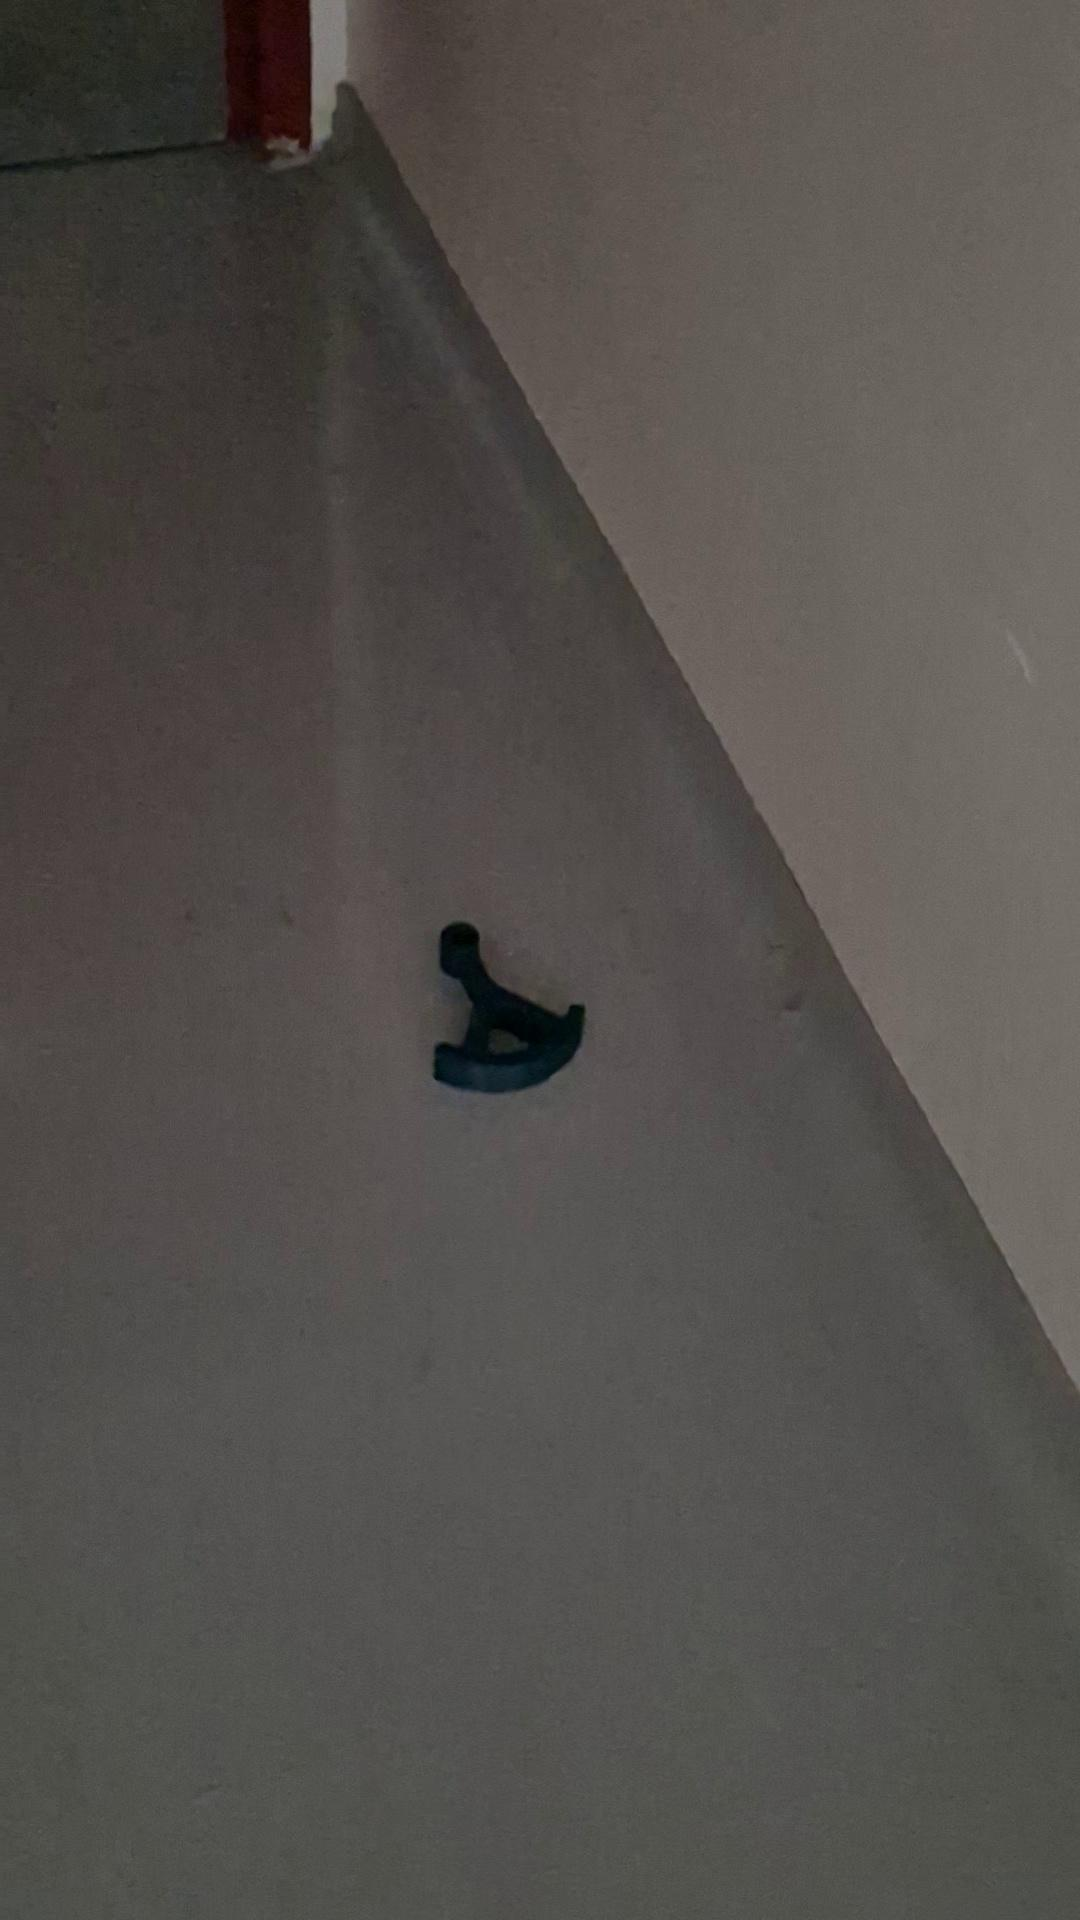Paddles: (430, 919, 588, 1097)
